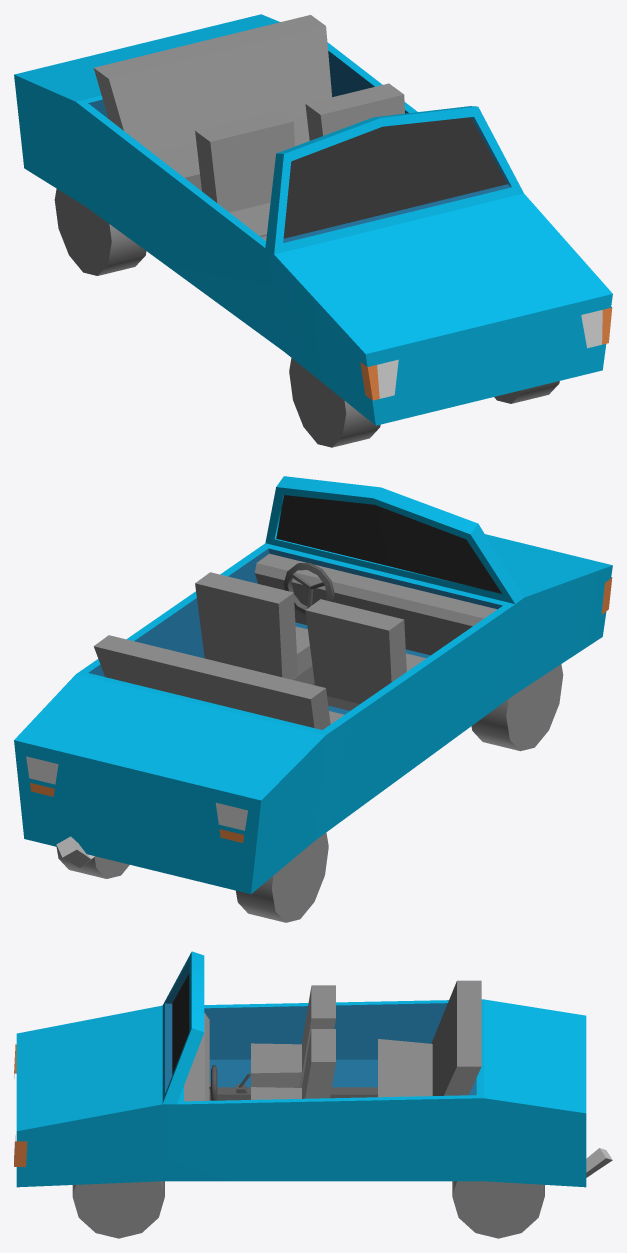
Rendered from cabrio_03.fbx.
3 renders of one model, top to bottom at view 1: azimuth 30°, elevation 25°; view 2: azimuth 150°, elevation 25°; view 3: azimuth 270°, elevation 25°, orthographic. The views are drawn at different scales.
Parts seen in each view (by area): view 1: cabrio_03; view 2: cabrio_03; view 3: cabrio_03.
Part boxes in pixels (bbox=[...]): cabrio_03: bbox=[14, 14, 612, 447]; cabrio_03: bbox=[14, 476, 612, 922]; cabrio_03: bbox=[14, 951, 612, 1238].
Size of the model in its own units: 1.6 by 1.63 by 4.1.
